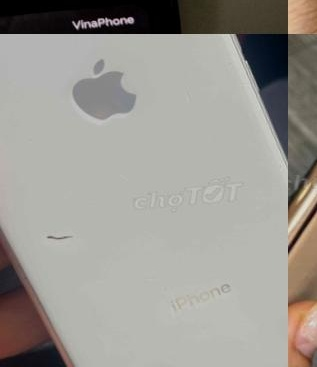scratch: (37, 223, 84, 251), (0, 90, 26, 136)
